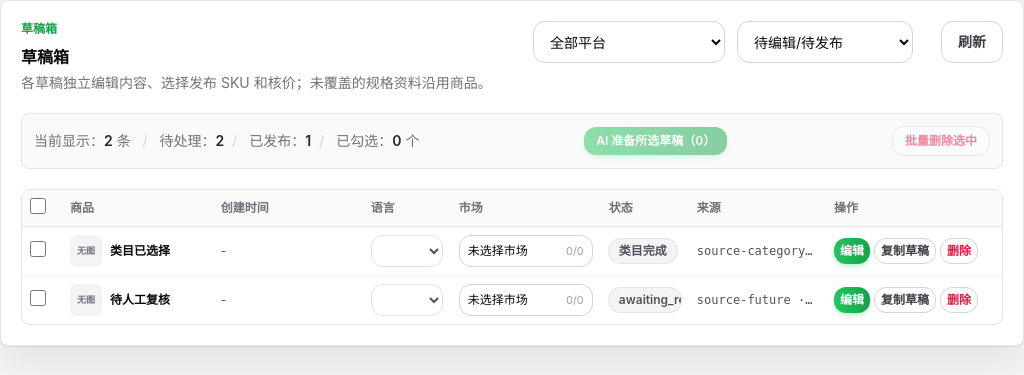
Scenario: DraftBoxPanel › 活动草稿不会因新增或中间状态而从草稿箱消失
Expected: the text "已发布商品" is not shown
Select "已发布" in the 2nd dropdown at x=825, y=42, box [737, 21, 913, 63]
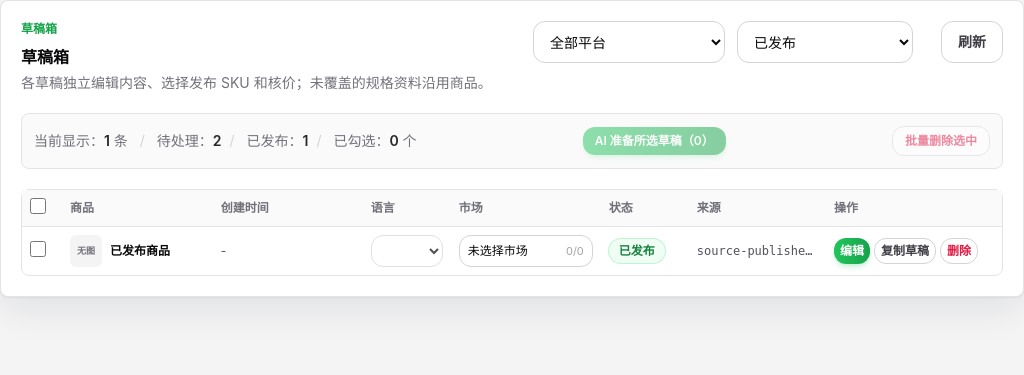
Expected: the text "类目已选择" is gone
Expected: the text "待人工复核" is gone
Expected: the text "已发布商品" is shown, [110, 243, 170, 259]
